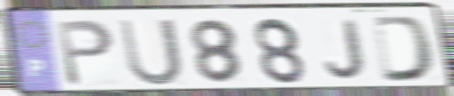8: (188, 17, 245, 85), (252, 15, 307, 85)
D: (370, 14, 439, 84)
J: (323, 18, 368, 82)
P: (53, 18, 117, 89)
U: (116, 17, 186, 88)
